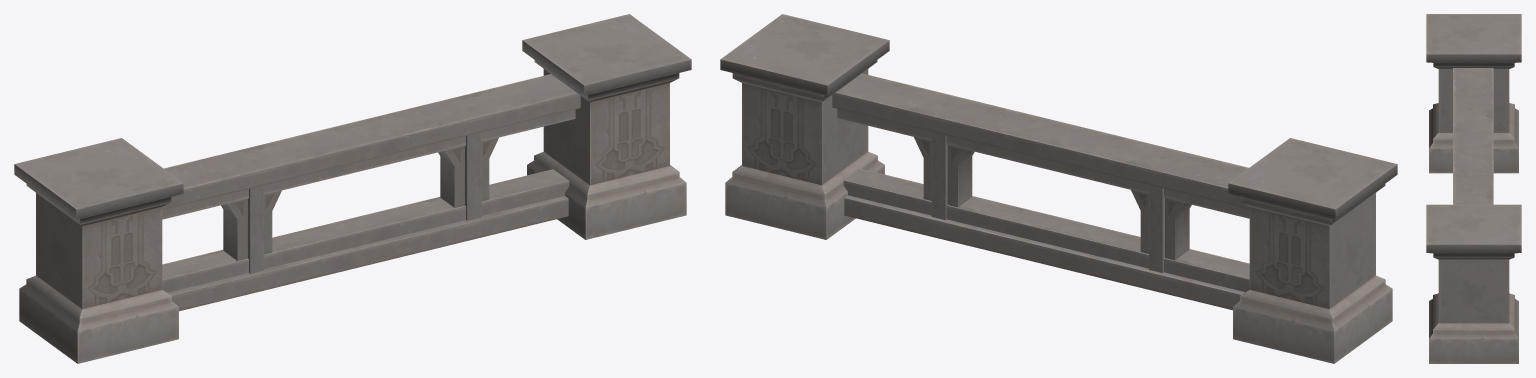
The model's file is Homeworld_Exterior_Fd_Build_Prop_ZxShiLan_02_Vo.fbx.
3 renders of one model, left to right at view 1: azimuth 30°, elevation 25°; view 2: azimuth 150°, elevation 25°; view 3: azimuth 270°, elevation 25°, orthographic. The views are drawn at different scales.
Parts seen in each view (by area): view 1: Area_Fd_Prop_FDC_Zcweilan_03_Vo, Area_Fd_Prop_FDC_Zcweilan_01_Vo, Area_Fd_Prop_FDC_Zcweilan_01_Vo (1); view 2: Area_Fd_Prop_FDC_Zcweilan_03_Vo, Area_Fd_Prop_FDC_Zcweilan_01_Vo, Area_Fd_Prop_FDC_Zcweilan_01_Vo (1); view 3: Area_Fd_Prop_FDC_Zcweilan_01_Vo (1), Area_Fd_Prop_FDC_Zcweilan_01_Vo, Area_Fd_Prop_FDC_Zcweilan_03_Vo.
Part boxes in pixels (<box>): Area_Fd_Prop_FDC_Zcweilan_03_Vo: <box>162,74,580,311</box>; Area_Fd_Prop_FDC_Zcweilan_01_Vo: <box>14,138,183,363</box>; Area_Fd_Prop_FDC_Zcweilan_01_Vo (1): <box>522,14,691,239</box>; Area_Fd_Prop_FDC_Zcweilan_03_Vo: <box>832,73,1249,310</box>; Area_Fd_Prop_FDC_Zcweilan_01_Vo: <box>1228,138,1397,363</box>; Area_Fd_Prop_FDC_Zcweilan_01_Vo (1): <box>720,14,889,239</box>; Area_Fd_Prop_FDC_Zcweilan_01_Vo (1): <box>1426,204,1521,363</box>; Area_Fd_Prop_FDC_Zcweilan_01_Vo: <box>1426,14,1521,173</box>; Area_Fd_Prop_FDC_Zcweilan_03_Vo: <box>1453,68,1493,204</box>.
Size of the model in its own units: 5.66 by 1.38 by 0.9873.
